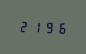nine: (42, 19, 53, 34)
one: (30, 19, 41, 33)
six: (54, 20, 65, 34)
two: (18, 19, 29, 33)
